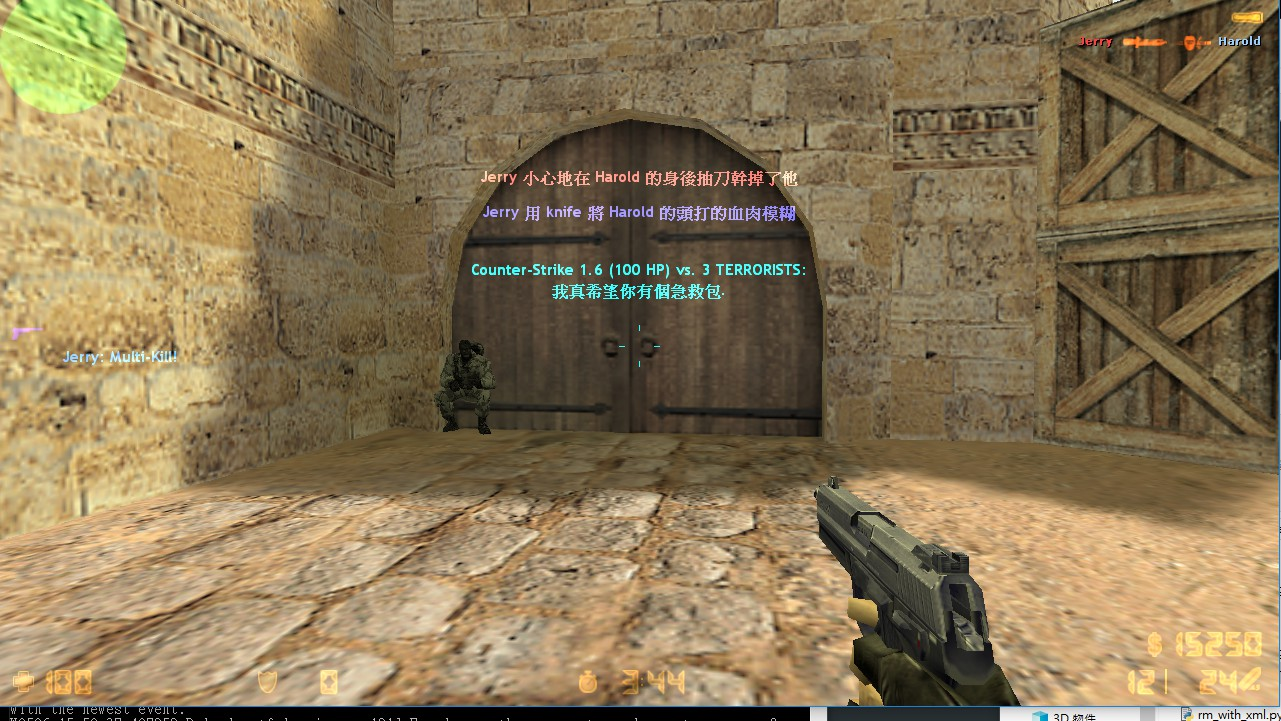person: (435, 336, 497, 436)
